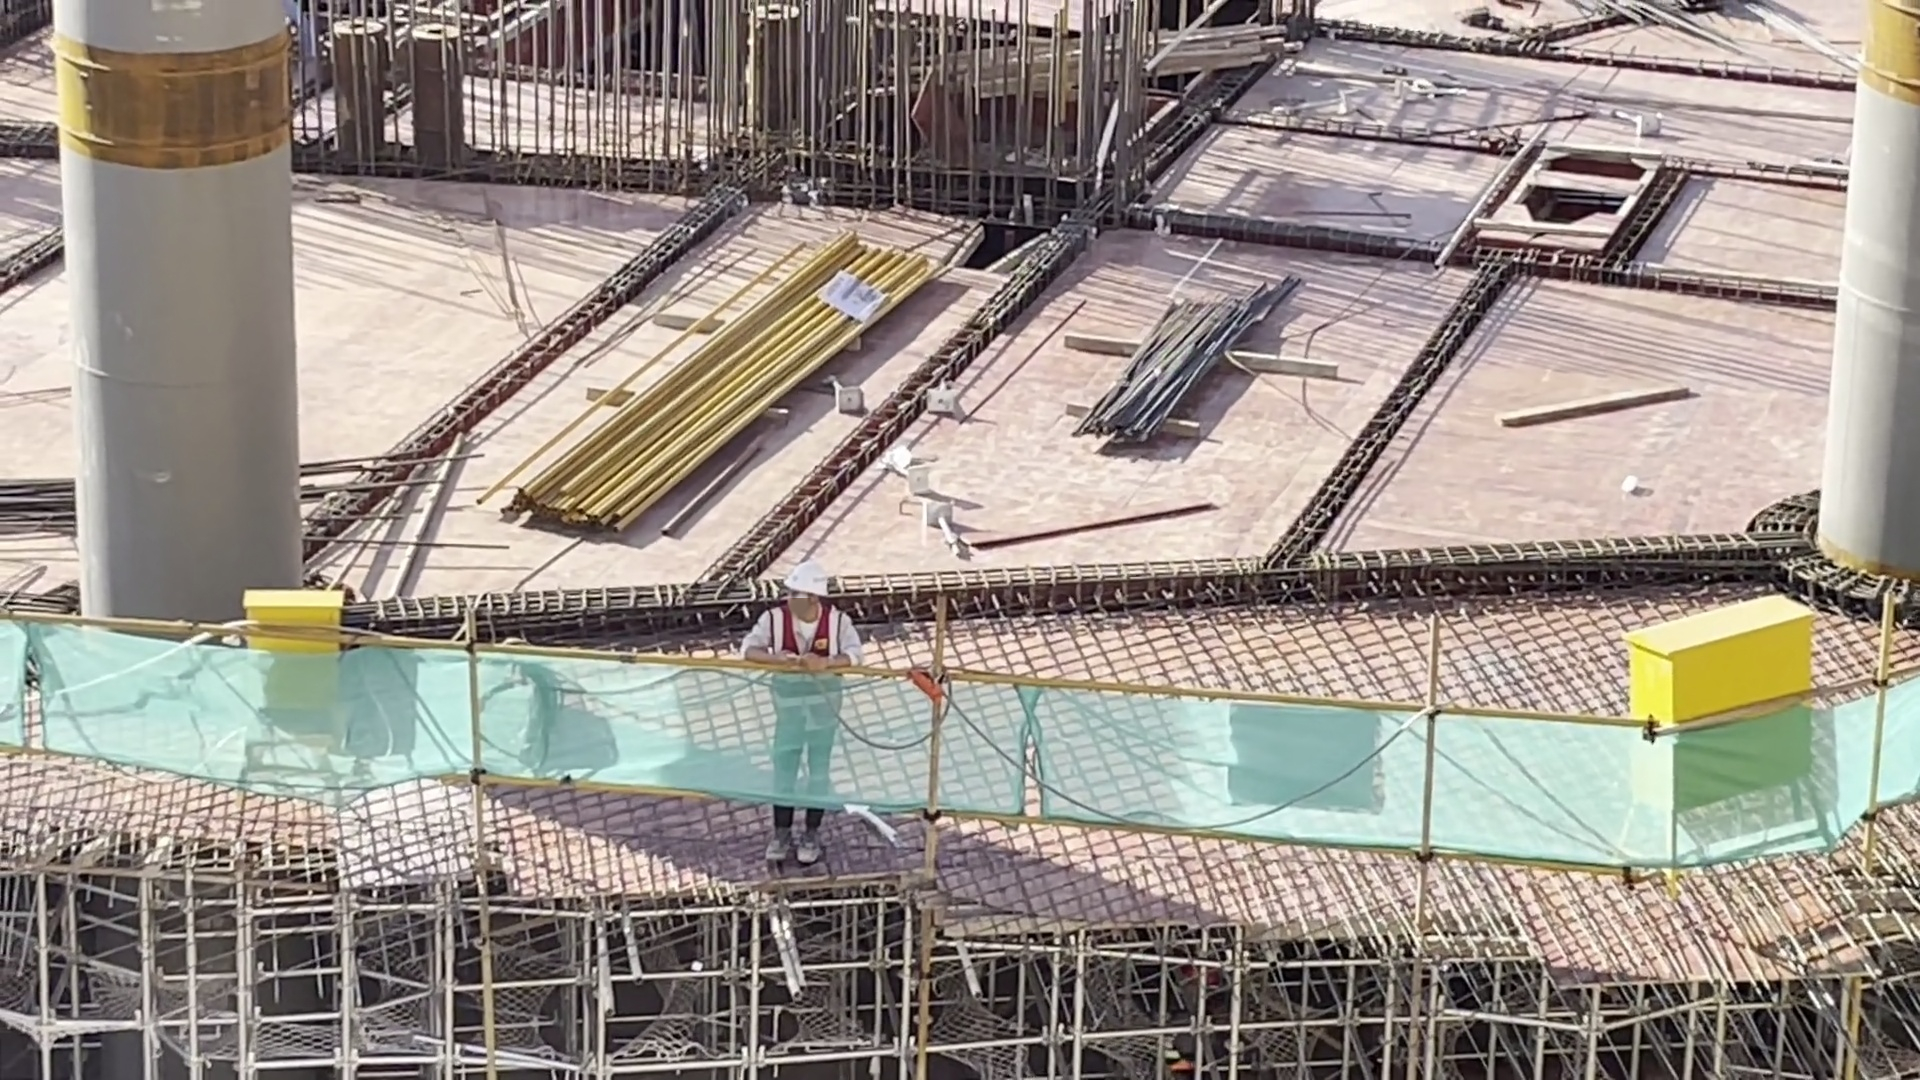ebox: (1617, 606, 1847, 812), (226, 572, 352, 735)
helmet: (771, 557, 839, 601)
person: (741, 538, 869, 864)
vest: (756, 602, 848, 733)
